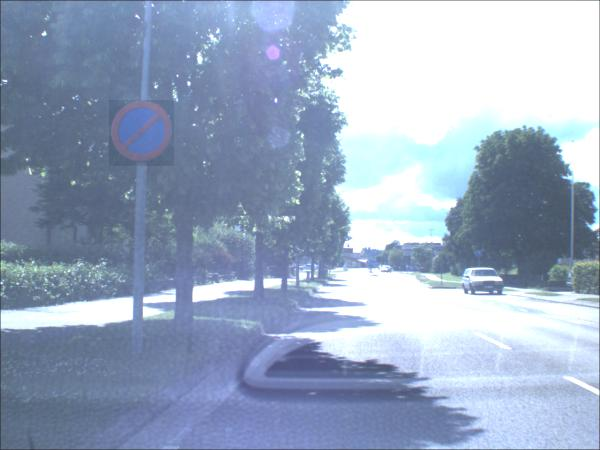NO_PARKING: (109, 101, 175, 168)
